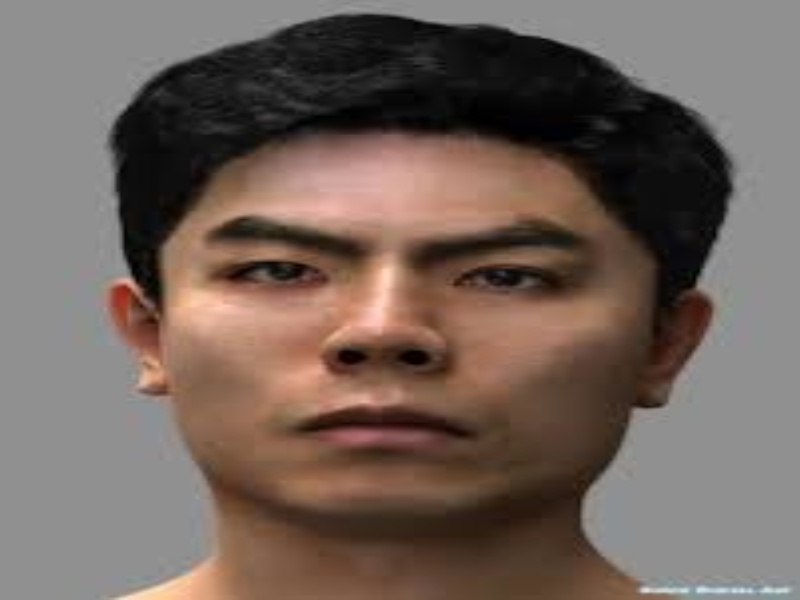face: (186, 163, 625, 481)
